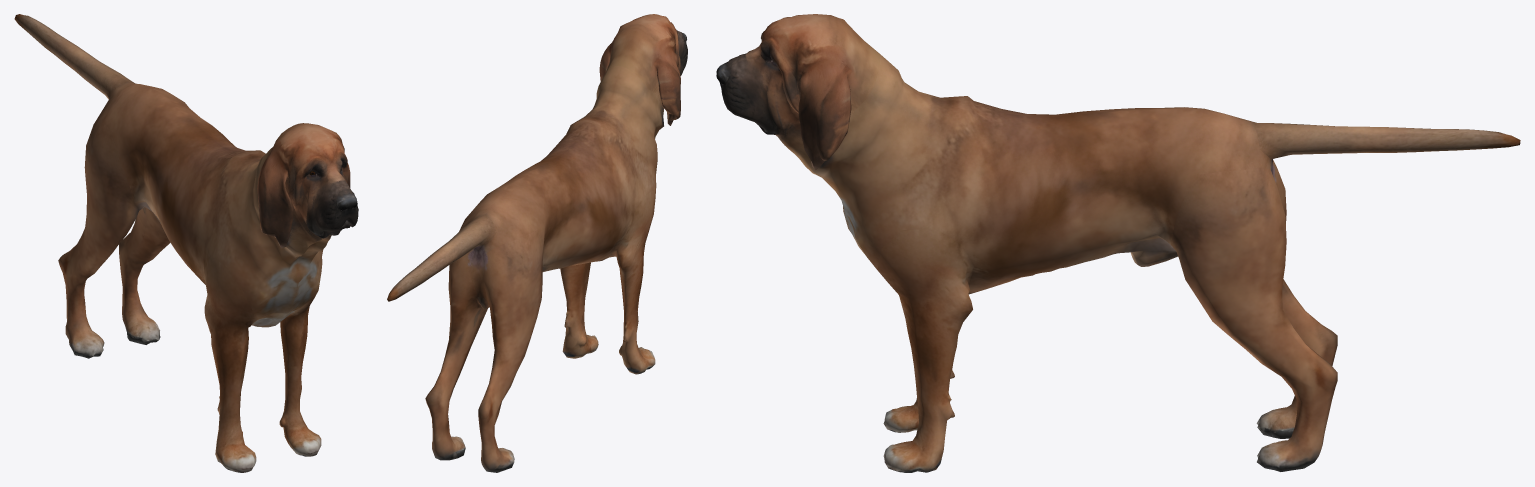
File: dog.glb
3 renders of one model, left to right at view 1: azimuth 30°, elevation 25°; view 2: azimuth 150°, elevation 25°; view 3: azimuth 270°, elevation 25°, orthographic. The views are drawn at different scales.
Visible parts, largest first — view 1: sm_3_0_0_0, sm_1_0_0_2; view 2: sm_3_0_0_0, sm_1_0_0_2; view 3: sm_3_0_0_0, sm_1_0_0_2.
Part boxes in pixels (bbox=[...]): sm_3_0_0_0: bbox=[14, 14, 327, 472]; sm_1_0_0_2: bbox=[257, 123, 358, 252]; sm_3_0_0_0: bbox=[387, 66, 663, 472]; sm_1_0_0_2: bbox=[599, 14, 687, 125]; sm_3_0_0_0: bbox=[805, 54, 1520, 472]; sm_1_0_0_2: bbox=[716, 14, 879, 170].
Bounding box in the file's own units: 0.2292 × 0.7949 × 1.34.
Materials: 3 (3 with a texture image).
